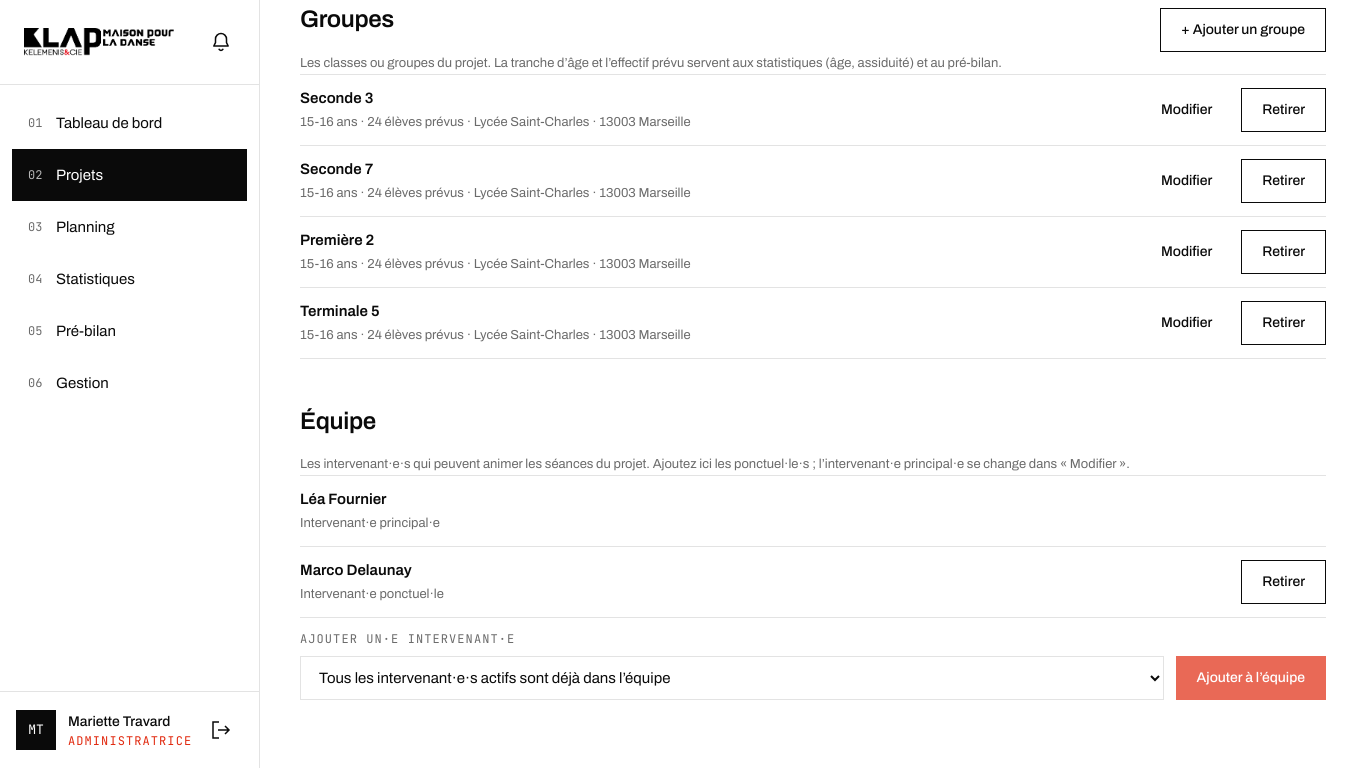
Test: Détail d’un projet › affiche le refus de l’API quand il reste des séances à venir (#251)
The width and height of the screenshot is (1366, 768).
(page scrolled)
Click the button "Retirer" in the row of "Intervenant·e ponctuel·le".
click(1284, 582)  # box x1=1241 y1=560 x2=1326 y2=604
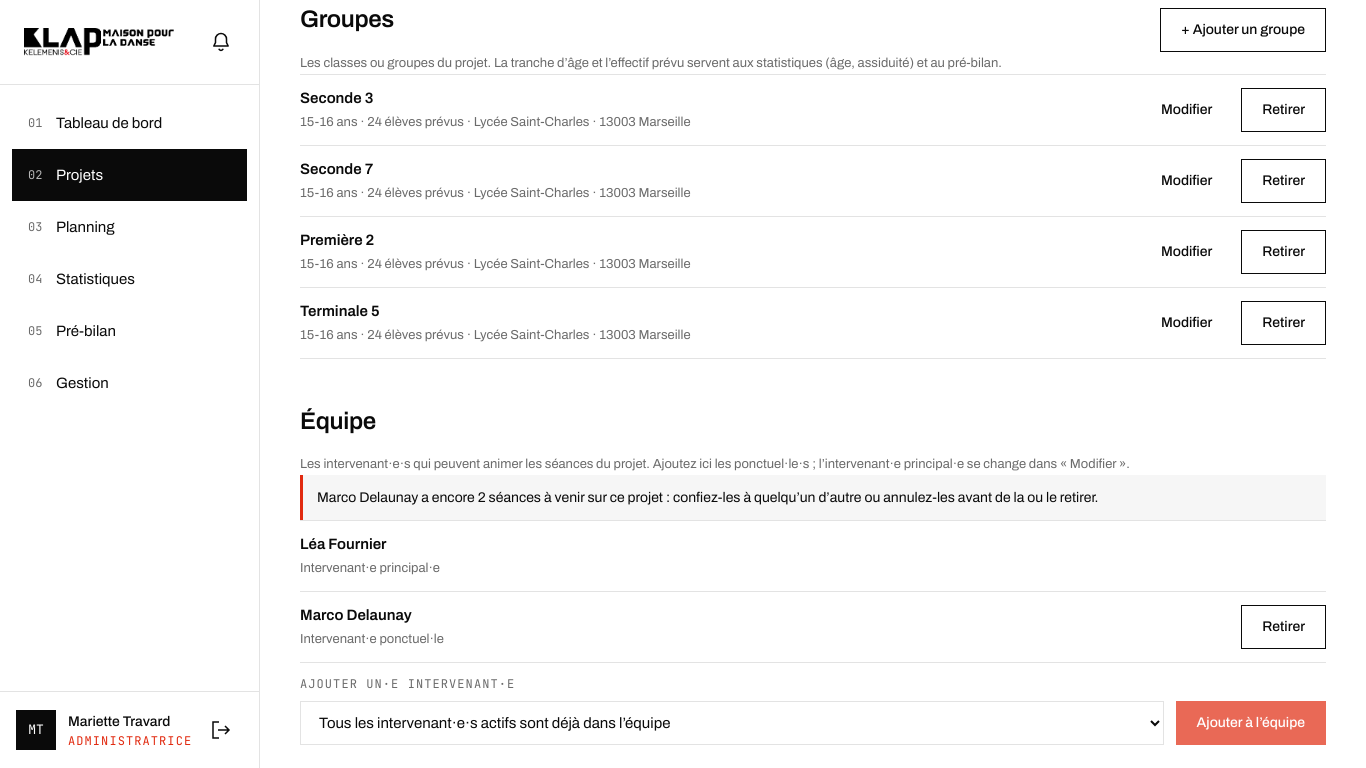
Expected: the message shows "a encore 2 séances à venir", x1=317 y1=490 x2=1098 y2=505
